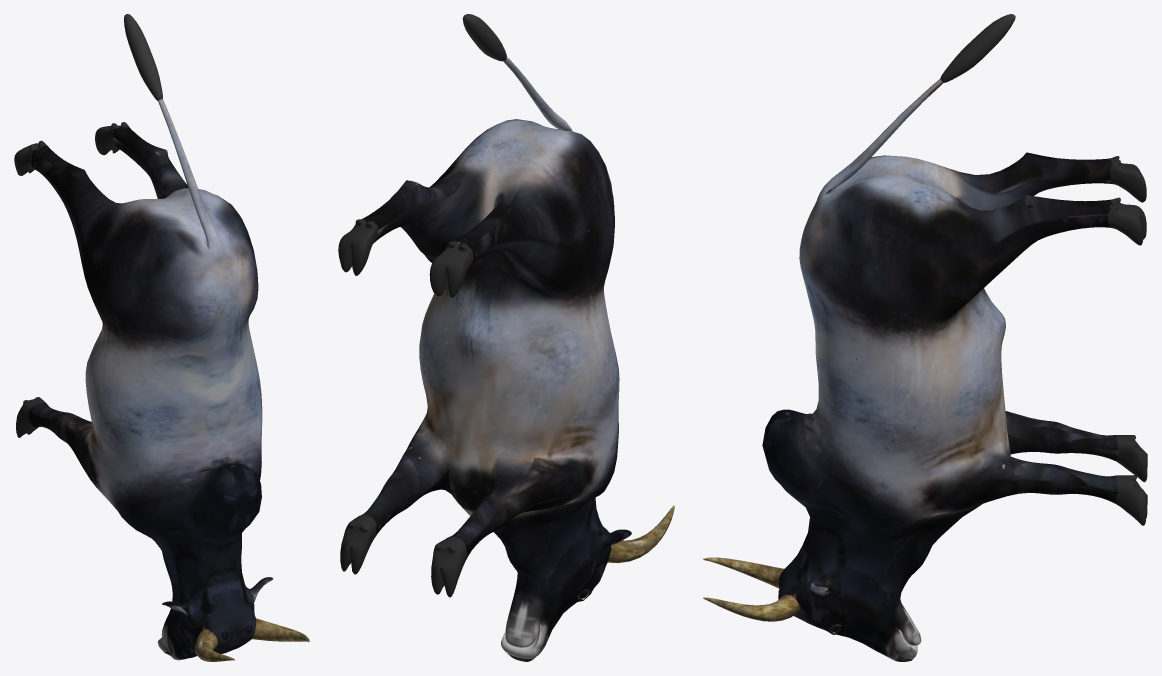
The picture shows the model from 3 angles, left to right: view 1: azimuth 30°, elevation 25°; view 2: azimuth 150°, elevation 25°; view 3: azimuth 270°, elevation 25°; orthographic projection. The views are drawn at different scales.
Parts seen in each view (by area): view 1: Object_57; view 2: Object_57; view 3: Object_57.
Boxes of the visible parts, left/top/right/bottom form: Object_57: left=14, top=14, right=309, bottom=661; Object_57: left=338, top=14, right=674, bottom=661; Object_57: left=703, top=14, right=1147, bottom=661.
Size of the model in its own units: 0.764 by 2.9 by 1.81.
Materials: 6 (3 with a texture image).
